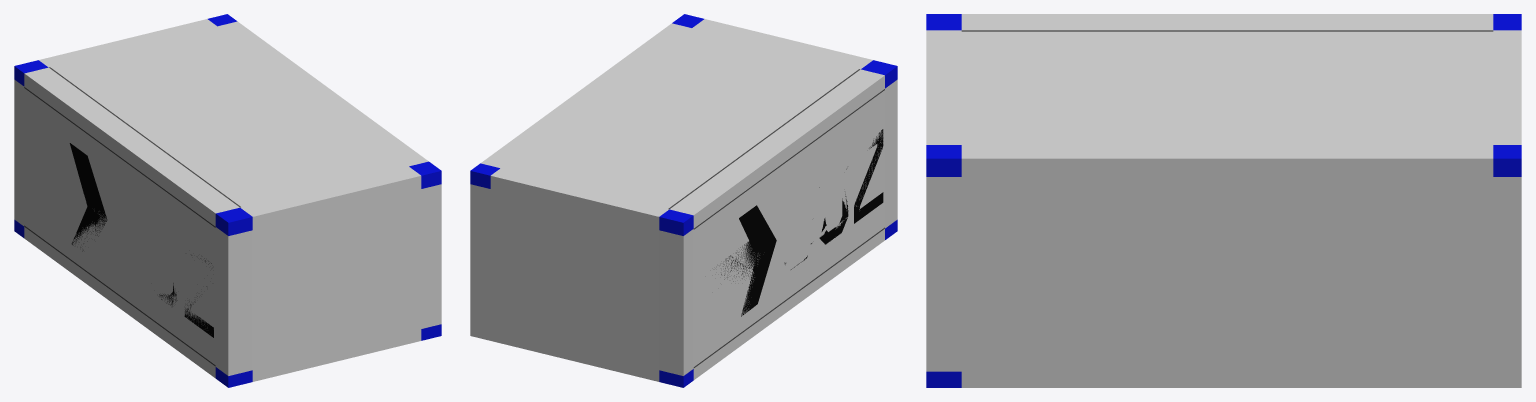
The picture shows the model from 3 angles, left to right: view 1: azimuth 30°, elevation 25°; view 2: azimuth 150°, elevation 25°; view 3: azimuth 270°, elevation 25°; orthographic projection. The views are drawn at different scales.
Parts seen in each view (by area): view 1: Cube, Plane.001, Text; view 2: Cube, Plane.001, Text, Cube.001; view 3: Cube.
Boxes of the visible parts, <box> form: Cube: <box>14,14,441,387</box>; Plane.001: <box>69,143,107,251</box>; Text: <box>159,255,213,337</box>; Cube: <box>470,14,897,387</box>; Plane.001: <box>739,205,776,316</box>; Text: <box>784,129,883,269</box>; Cube.001: <box>721,240,759,281</box>; Cube: <box>926,14,1521,387</box>.
Size of the model in its own units: 206 by 152 by 358.
